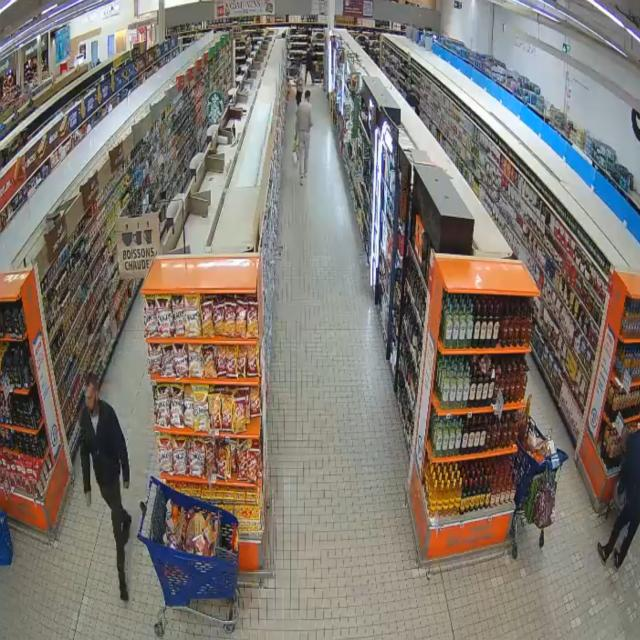bags: (533, 480, 555, 529), (293, 136, 298, 167)
hands: (85, 492, 91, 507), (124, 482, 129, 489), (295, 133, 297, 140)
person: (81, 374, 131, 600), (598, 431, 639, 568), (296, 90, 312, 184)
